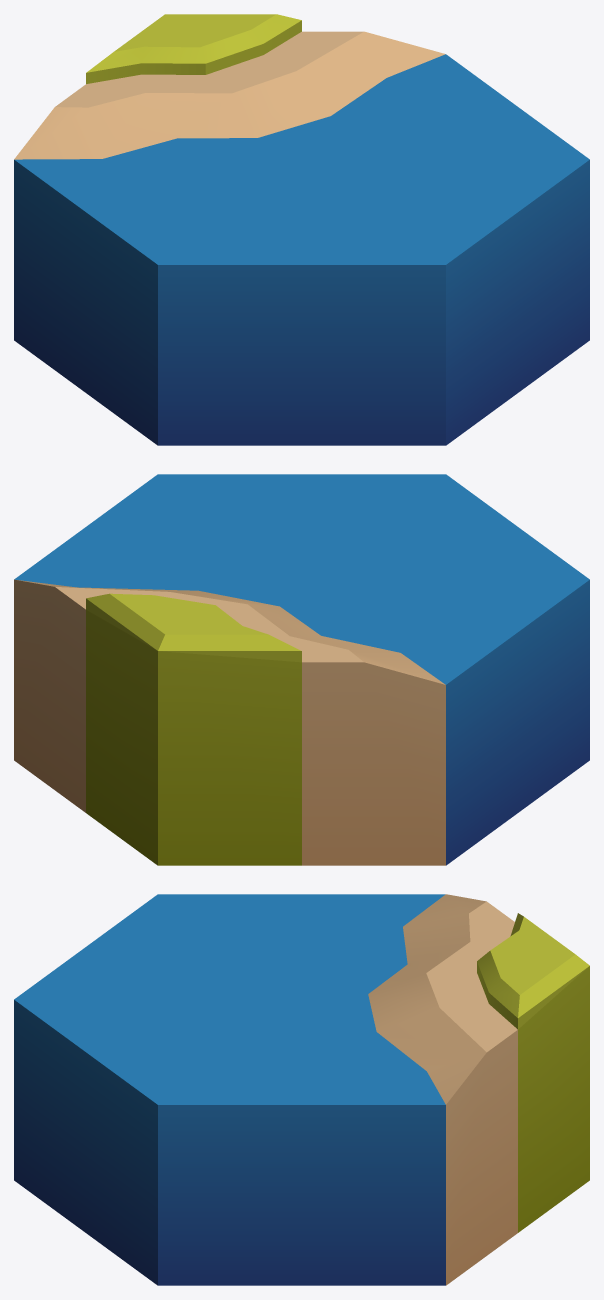
File: hex_coast_4.glb
3 renders of one model, top to bottom at view 1: azimuth 30°, elevation 25°; view 2: azimuth 150°, elevation 25°; view 3: azimuth 270°, elevation 25°, orthographic.
Parts seen in each view (by area): view 1: hex_coast_4; view 2: hex_coast_4; view 3: hex_coast_4.
Part boxes in pixels (x1,y1,x2,y2): hex_coast_4: [14, 14, 589, 445]; hex_coast_4: [14, 474, 589, 865]; hex_coast_4: [14, 894, 589, 1285].
Bounding box in the file's own units: 1 × 0.5 × 1.15.
1 material, 1 textured.
